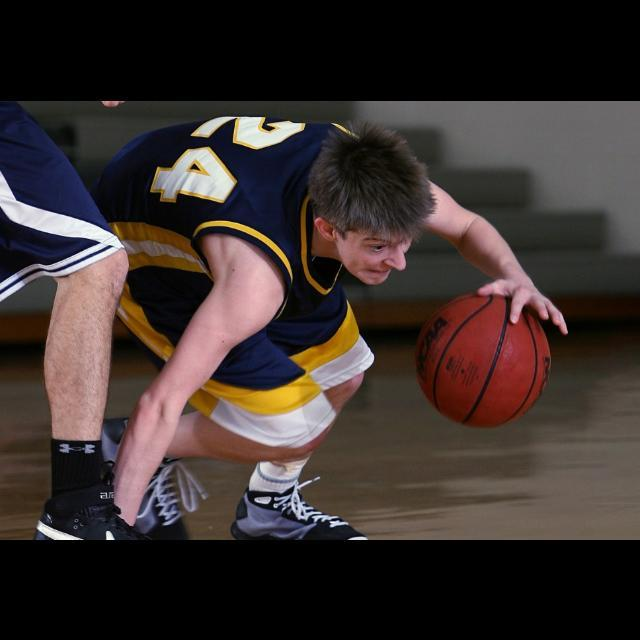basketball: (418, 294, 550, 426)
